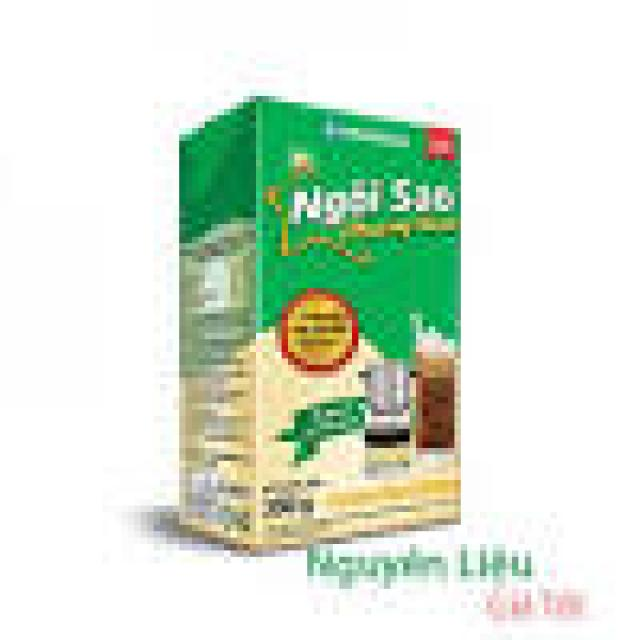non_white_jug: (170, 86, 483, 560)
